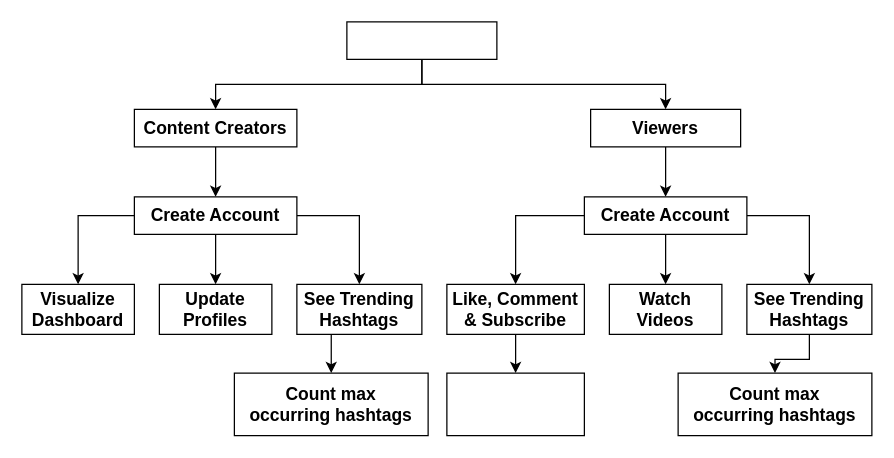
The diagram is 894 pixels wide and 458 high, and some of its shapes have lost their labels. The shapes that lost their labels are listed below. From the top down, each one's centre as x and y in pixels, then its label:
pixel 421 40: RAVIO APP
pixel 515 404: Sentiment Analysis on Comments
